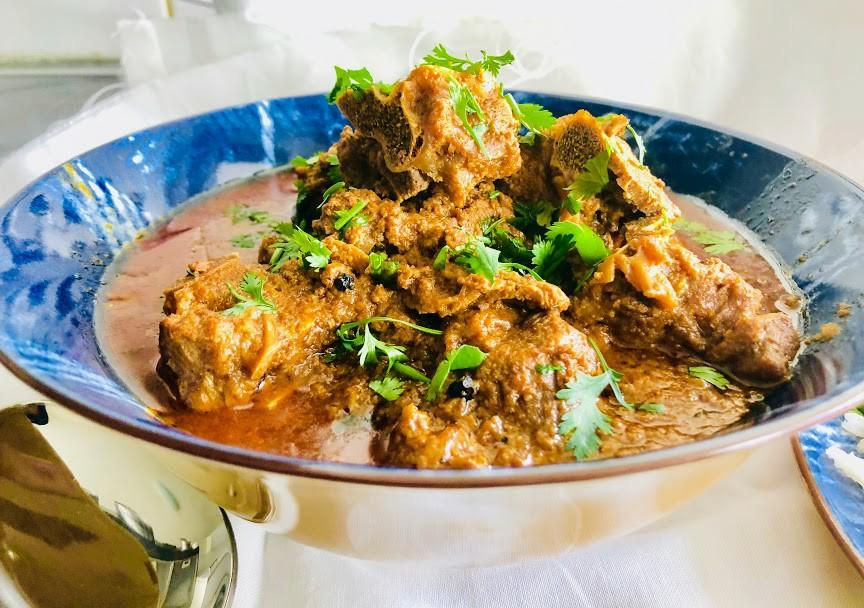MuttonCurry: (93, 60, 805, 468)
